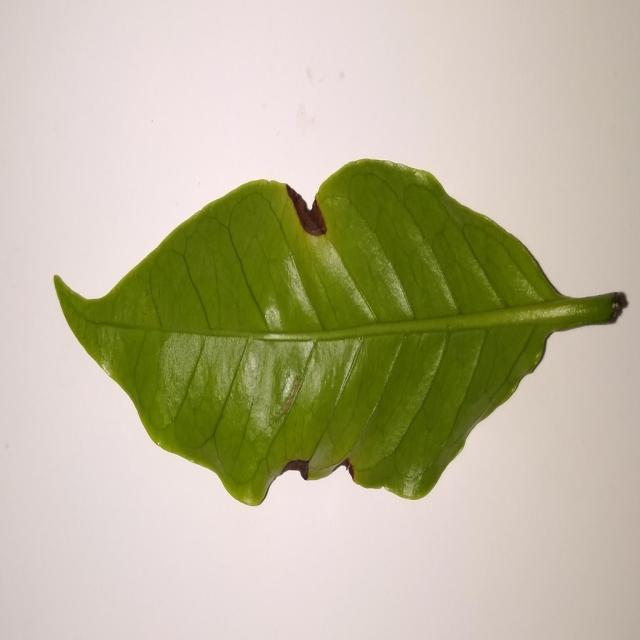Enfermedad-Antracnosis: (52, 159, 629, 511)
